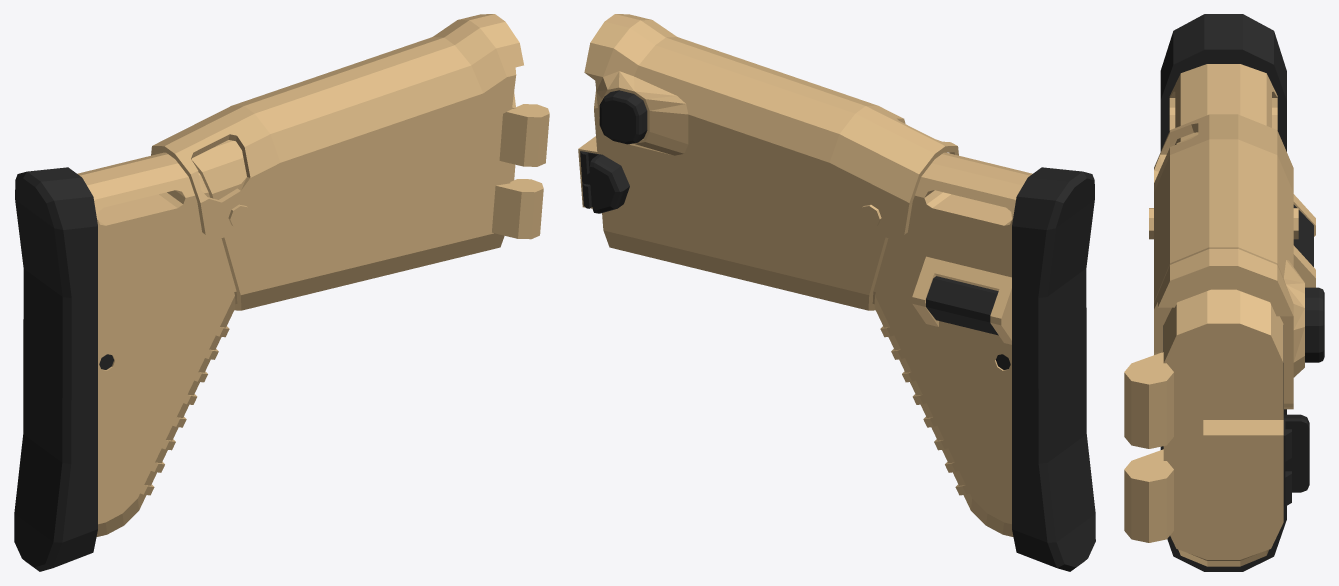
Rendered from fn_scar_l_std_stock.glb.
3 views of the same model, side by side, from view 1: azimuth 30°, elevation 25°; view 2: azimuth 150°, elevation 25°; view 3: azimuth 270°, elevation 25° (orthographic). The views are drawn at different scales.
Visible parts, largest first — view 1: scarlstd stock butt_6 (×2), scarlstd stock cheek_7, scarlstd stock_8; view 2: scarlstd stock butt_6 (×3), scarlstd stock cheek_7 (×2), scarlstd stock_8 (×2); view 3: scarlstd stock_8 (×2), scarlstd stock cheek_7 (×2), scarlstd stock butt_6 (×3).
Part boxes in pixels (box(x1,y1,x2,y2)): scarlstd stock butt_6 (×2): box(14, 152, 237, 571); scarlstd stock cheek_7: box(151, 14, 523, 239); scarlstd stock_8: box(191, 92, 549, 310); scarlstd stock butt_6 (×3): box(872, 152, 1095, 571); scarlstd stock cheek_7 (×2): box(584, 14, 958, 239); scarlstd stock_8 (×2): box(578, 90, 888, 310); scarlstd stock_8 (×2): box(1124, 134, 1309, 559); scarlstd stock cheek_7 (×2): box(1149, 114, 1324, 409); scarlstd stock butt_6 (×3): box(1160, 14, 1315, 571).
Bounding box in the file's own units: 2.05 × 1.73 × 0.5231.
